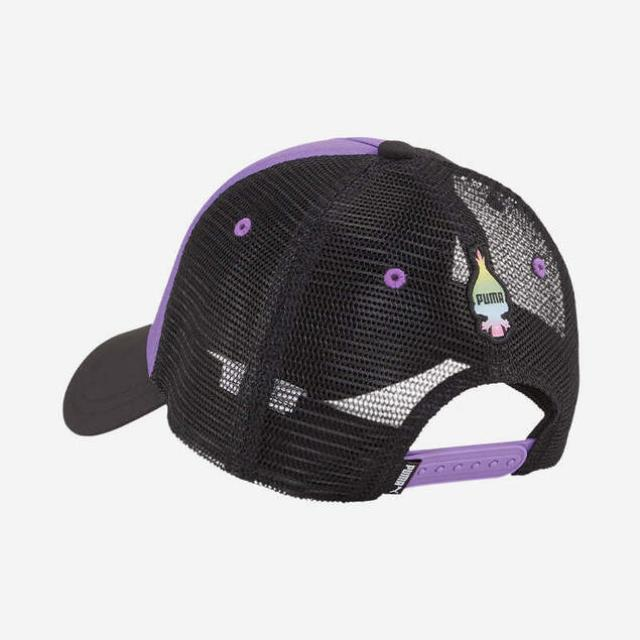Nonhelmet: (51, 123, 584, 509)
